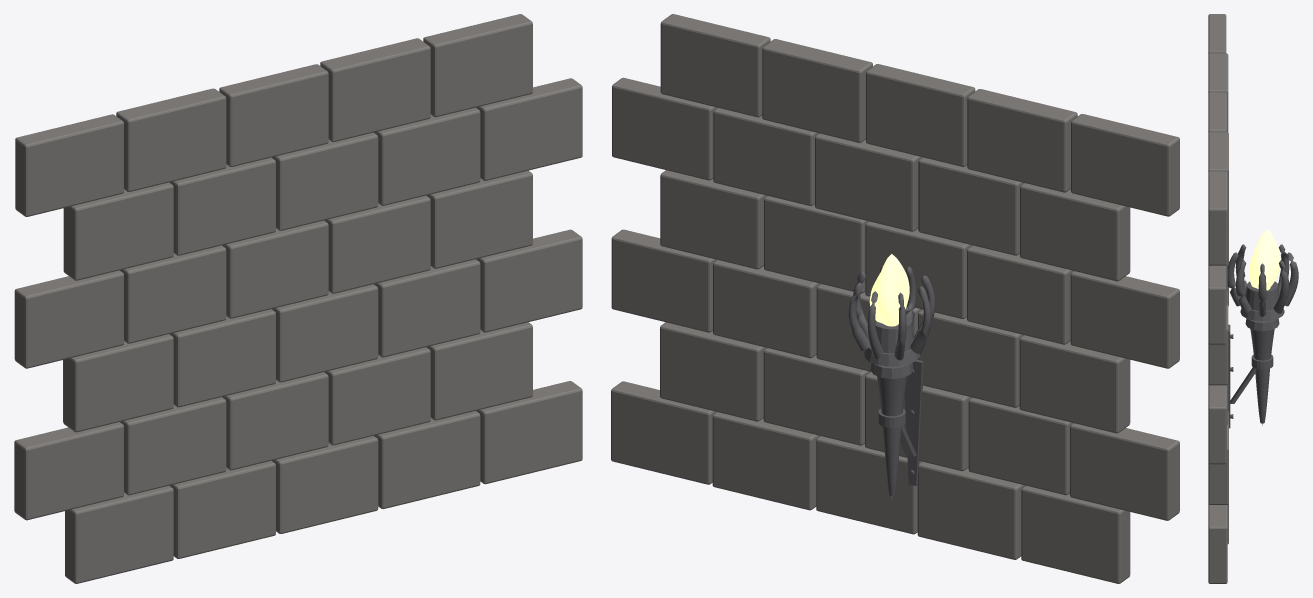
File: medieval_torch.fbx
The picture shows the model from 3 angles, left to right: view 1: azimuth 30°, elevation 25°; view 2: azimuth 150°, elevation 25°; view 3: azimuth 270°, elevation 25°; orthographic projection. The views are drawn at different scales.
Parts seen in each view (by area): view 1: Castle_Stone_Wall; view 2: Castle_Stone_Wall, Medieval_Torch_Iron, Torch_Fire_Flame; view 3: Castle_Stone_Wall, Medieval_Torch_Iron, Torch_Fire_Flame.
Part boxes in pixels (x1,y1,x2,y2): Castle_Stone_Wall: (14, 14, 582, 583); Castle_Stone_Wall: (611, 14, 1179, 583); Medieval_Torch_Iron: (848, 265, 935, 499); Torch_Fire_Flame: (869, 254, 909, 326); Castle_Stone_Wall: (1208, 14, 1228, 583); Medieval_Torch_Iron: (1227, 244, 1298, 428); Torch_Fire_Flame: (1249, 229, 1280, 290).
Bounding box in the file's own units: 225 × 174 × 40.
